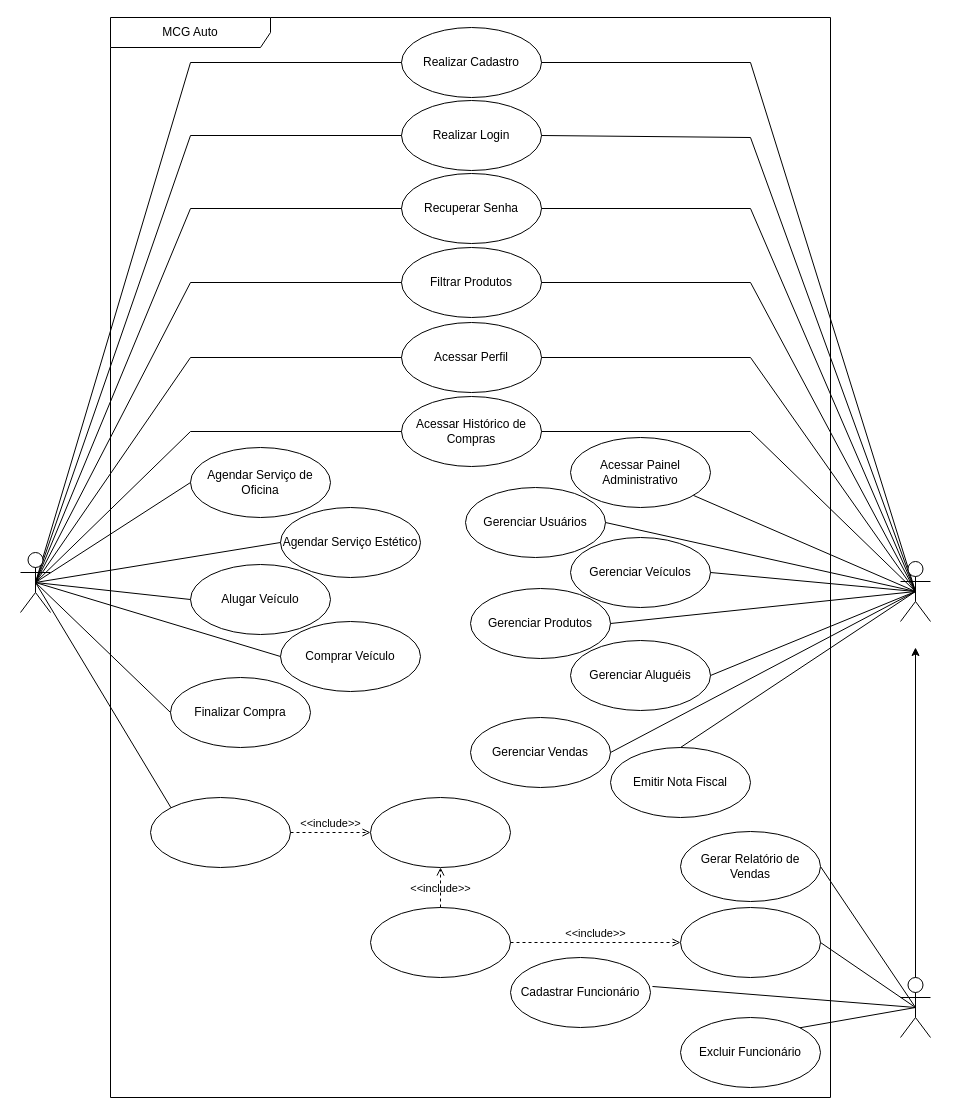
Image size: 964x1115. Some labels were removed from this diagram. The box of each missing label's shape, as (x1, y1, x2, y2) in pixels:
Aprovar Venda de Veículo: (680, 906, 820, 978)
Cliente: (20, 552, 50, 612)
Comprar Produto: (150, 796, 290, 868)
Funcionário: (900, 560, 930, 622)
Gestor: (900, 976, 930, 1038)
Registrar Venda: (370, 906, 510, 978)
Validar Dados: (370, 796, 510, 868)
